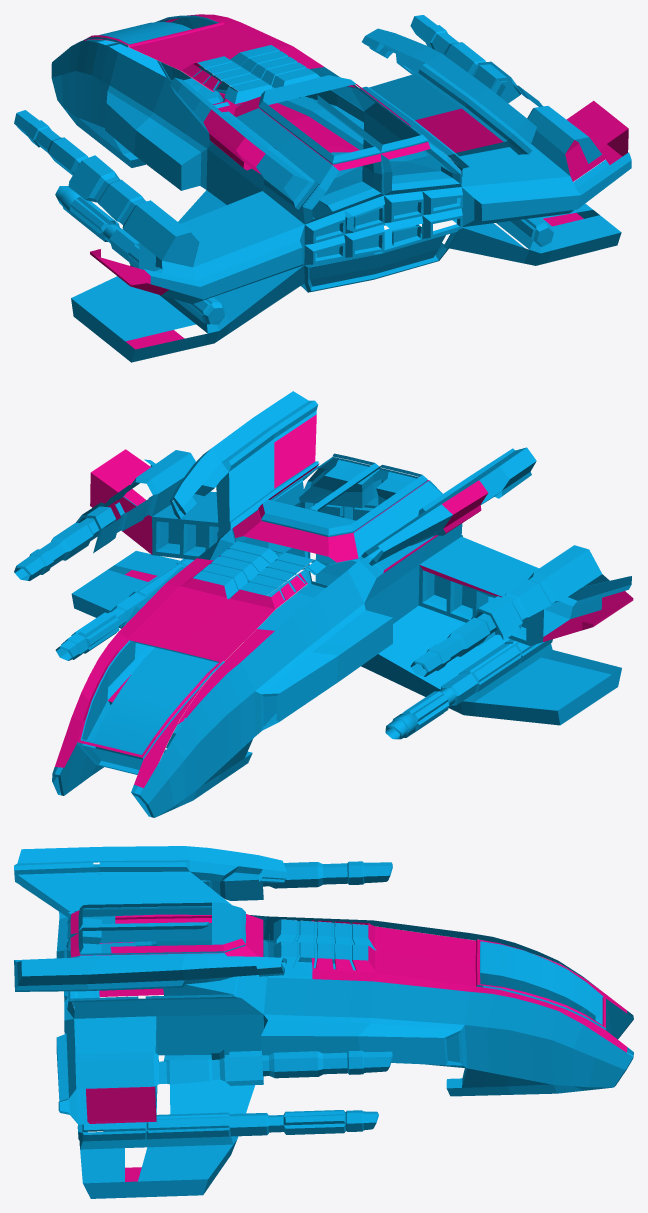
The picture shows the model from 3 angles, top to bottom: view 1: azimuth 30°, elevation 25°; view 2: azimuth 150°, elevation 25°; view 3: azimuth 270°, elevation 25°; orthographic projection. The views are drawn at different scales.
Parts seen in each view (by area): view 1: ms_Object007.001; view 2: ms_Object007.001; view 3: ms_Object007.001.
Boxes of the visible parts, x1,y1,x2,y2 form: ms_Object007.001: [14, 14, 631, 362]; ms_Object007.001: [14, 391, 633, 817]; ms_Object007.001: [14, 846, 633, 1198].
Size of the model in its own units: 699 by 250 by 767.
